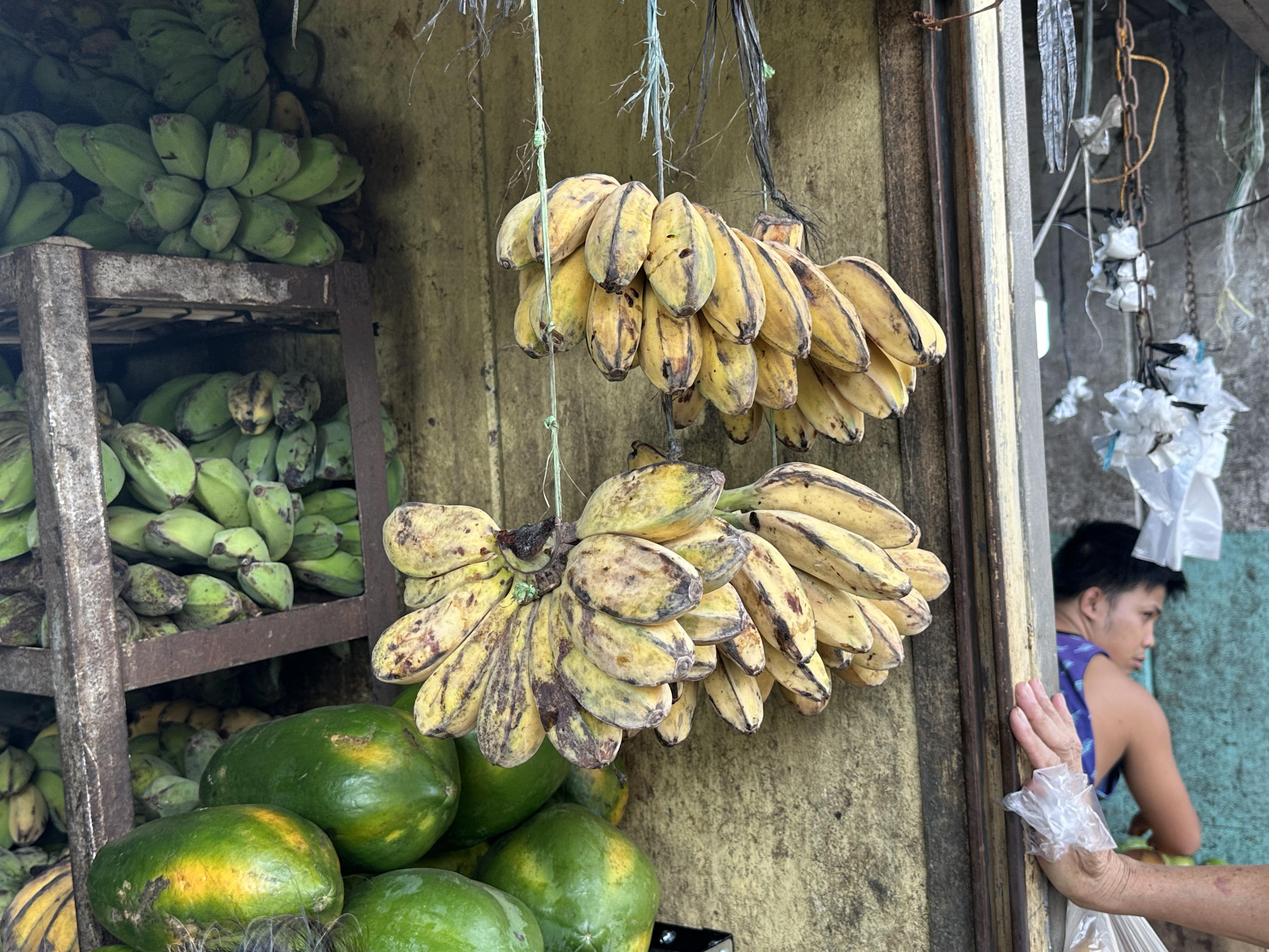ripe: (497, 174, 811, 415), (702, 462, 950, 733), (764, 240, 947, 450)
underripe: (374, 462, 750, 765), (57, 113, 363, 265), (107, 459, 295, 610), (131, 0, 270, 129), (131, 370, 320, 442), (111, 556, 259, 642), (190, 421, 354, 490), (284, 487, 364, 597)
